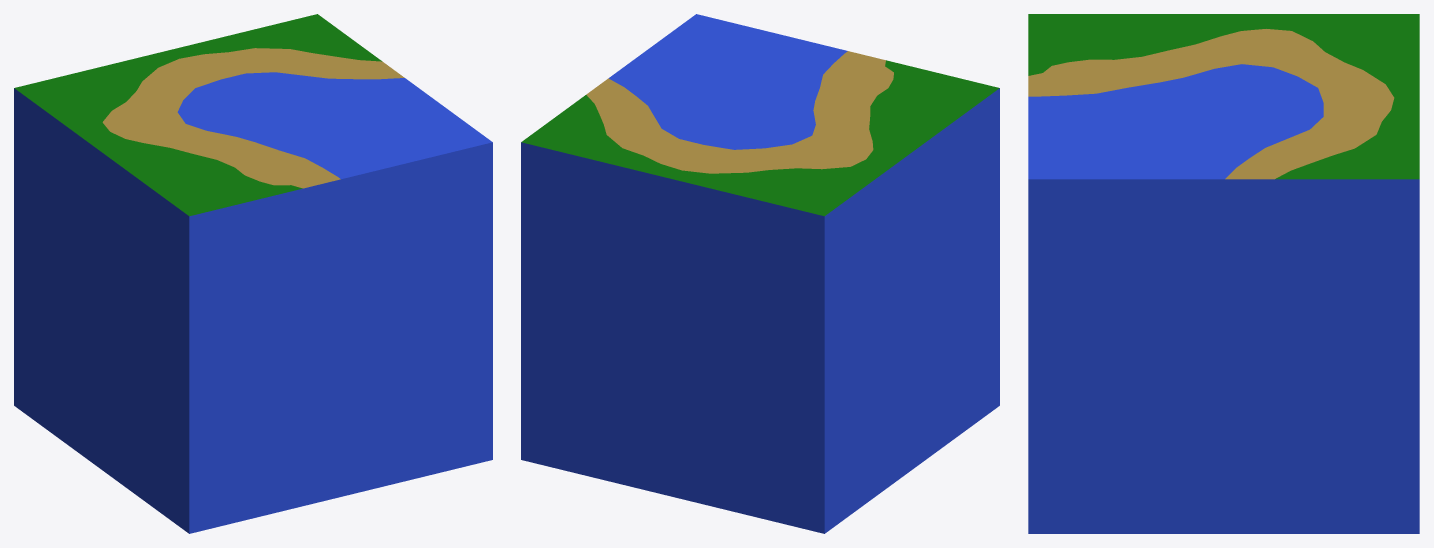
Rendered from CoastWedge3.fbx.
3 views of the same model, side by side, from view 1: azimuth 30°, elevation 25°; view 2: azimuth 150°, elevation 25°; view 3: azimuth 270°, elevation 25° (orthographic). The views are drawn at different scales.
Parts seen in each view (by area): view 1: Cube.013; view 2: Cube.013; view 3: Cube.013.
Boxes of the visible parts, bbox=[...] form: Cube.013: bbox=[14, 14, 492, 533]; Cube.013: bbox=[521, 14, 999, 533]; Cube.013: bbox=[1028, 14, 1419, 533].
Bounding box in the file's own units: 100 × 100 × 100.
